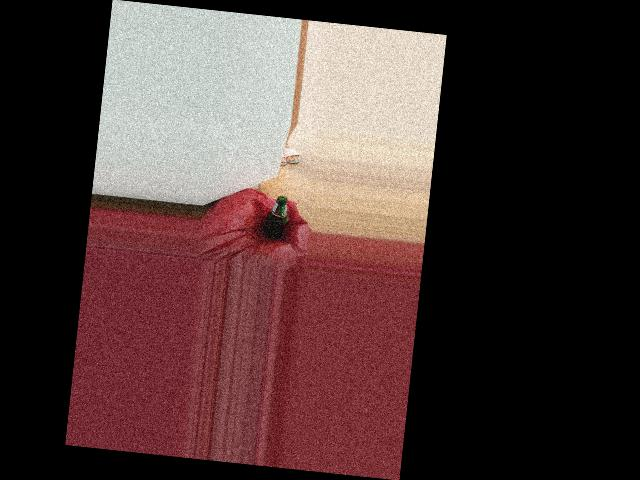beer: (262, 194, 290, 240)
